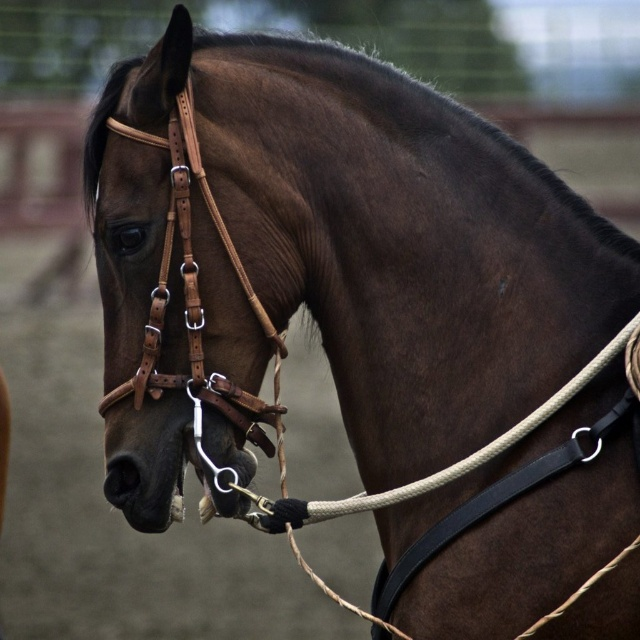Horse: (84, 4, 638, 638)
